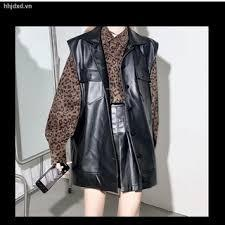sweater: (63, 30, 158, 193)
